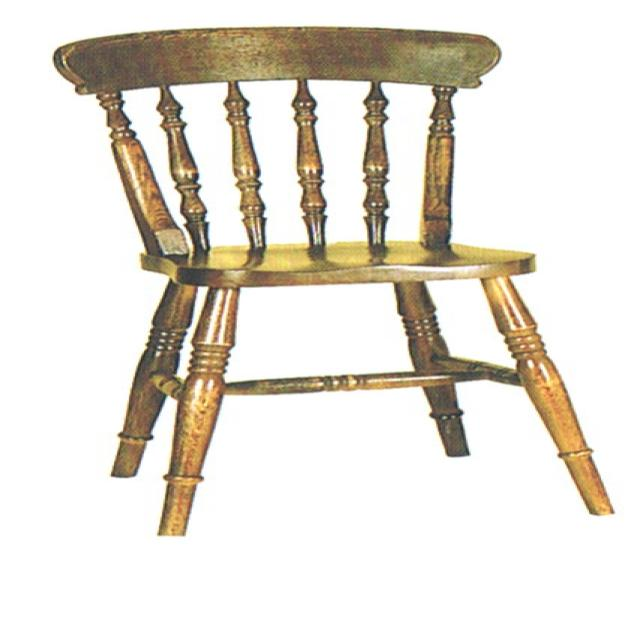chair: (48, 24, 617, 540)
